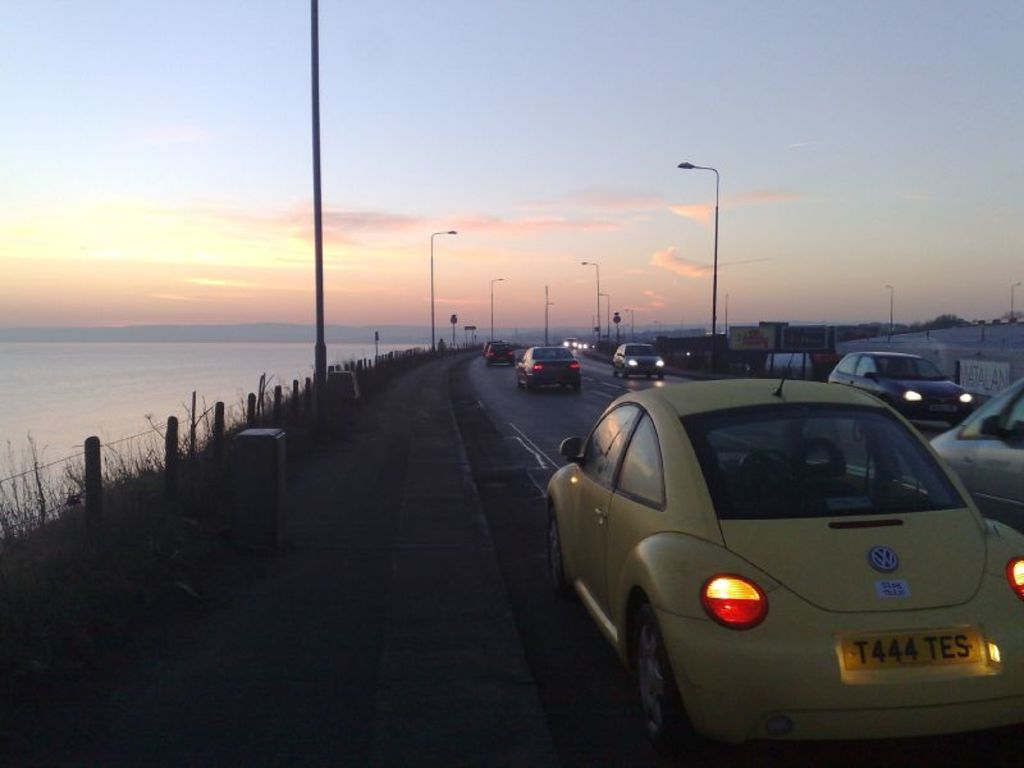Car: (540, 346, 1022, 766), (929, 376, 1022, 538), (824, 346, 979, 436), (508, 336, 582, 396), (608, 330, 672, 382), (487, 336, 512, 362)
